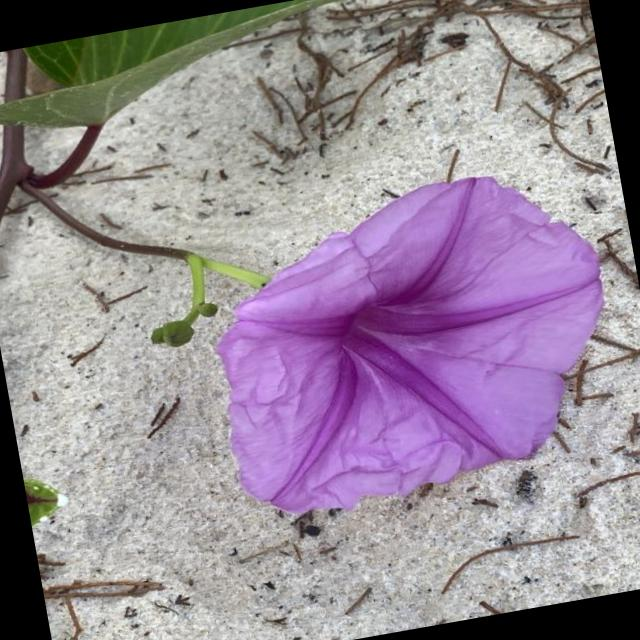ipomoea: (186, 152, 638, 530)
